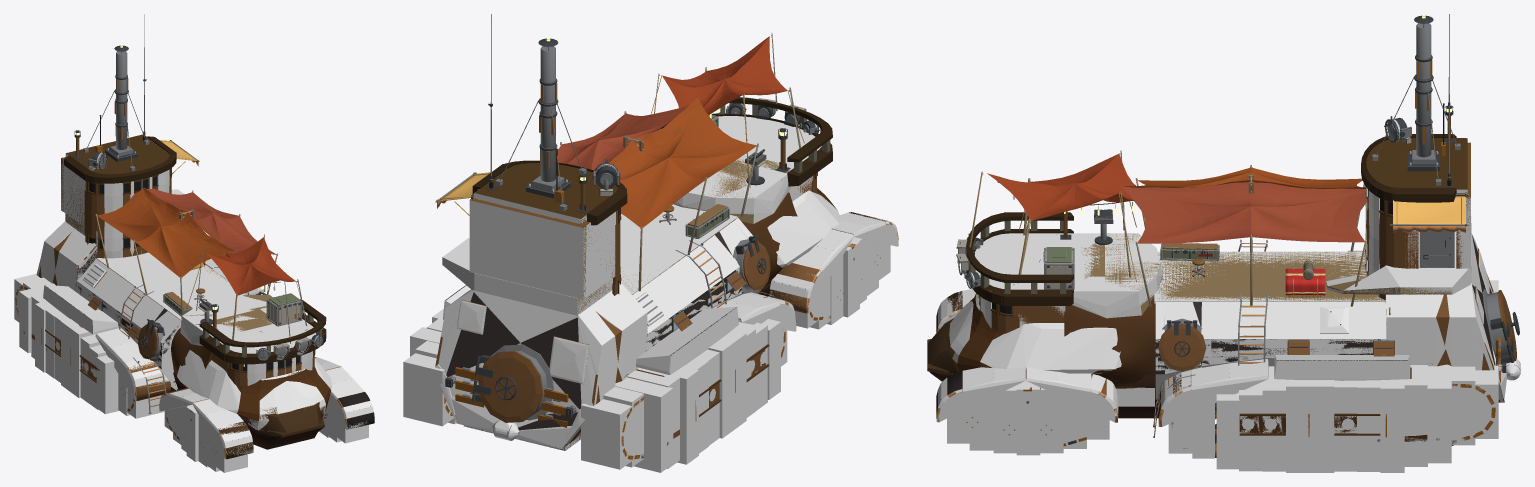
File: dune_barge_lookout.fbx
The picture shows the model from 3 angles, left to right: view 1: azimuth 30°, elevation 25°; view 2: azimuth 150°, elevation 25°; view 3: azimuth 270°, elevation 25°; orthographic projection. The views are drawn at different scales.
Parts seen in each view (by area): view 1: S16_Canopy.002, COL_DuneBarge_0027, S06_Canopy.002, S16_Canopy.001, COL_DuneBarge_0060, COL_DuneBarge_0146, Mesh_ExhaustStack_Flue.003, Cube.015, COL_DuneBarge_0145, Cube.028, COL_DuneBarge_0070, COL_DuneBarge_0111 (+47 smaller); view 2: S16_Canopy.002, COL_DuneBarge_0105, COL_DuneBarge_0027, S06_Canopy.002, Mesh_RearHull_Stern.002, Mesh_Hatch_Roof_Lid.002, Mesh_ExhaustStack_Flue.003, Cube.028, COL_DuneBarge_0145, COL_DuneBarge_0160, COL_DuneBarge_0060, S16_Canopy.001 (+53 smaller); view 3: S16_Canopy.001, Mesh_RearHull_Roof.003, COL_DuneBarge_0059, S06_Canopy.002, COL_DuneBarge_0130, neck.001, COL_DuneBarge_0027, Cube.028, COL_DuneBarge_0035, COL_DuneBarge_0129, Mesh_ExhaustStack_Flue.003, COL_DuneBarge_0058 (+64 smaller).
Part boxes in pixels (box(x1,y1,x2,y2)): S16_Canopy.002: box(97, 187, 234, 277); COL_DuneBarge_0027: box(97, 252, 246, 320); S06_Canopy.002: box(205, 237, 295, 295); S16_Canopy.001: box(146, 188, 276, 254); COL_DuneBarge_0060: box(177, 350, 240, 413); COL_DuneBarge_0146: box(95, 328, 168, 400); Mesh_ExhaustStack_Flue.003: box(83, 45, 149, 171); Cube.015: box(237, 367, 330, 429); COL_DuneBarge_0145: box(43, 285, 118, 334); Cube.028: box(66, 134, 169, 174); COL_DuneBarge_0070: box(257, 381, 325, 430); COL_DuneBarge_0111: box(192, 399, 253, 457); S16_Canopy.002: box(609, 97, 756, 227); COL_DuneBarge_0105: box(469, 200, 586, 299); COL_DuneBarge_0027: box(620, 204, 737, 294); S06_Canopy.002: box(662, 36, 787, 114); Mesh_RearHull_Stern.002: box(446, 292, 581, 430); Mesh_Hatch_Roof_Lid.002: box(472, 351, 543, 422); Mesh_ExhaustStack_Flue.003: box(495, 37, 586, 210); Cube.028: box(474, 161, 617, 223); COL_DuneBarge_0145: box(636, 307, 738, 374); COL_DuneBarge_0160: box(581, 399, 632, 469); COL_DuneBarge_0060: box(767, 190, 840, 267); S16_Canopy.001: box(557, 100, 703, 170); S16_Canopy.001: box(1121, 179, 1367, 243); Mesh_RearHull_Roof.003: box(1157, 251, 1384, 301); COL_DuneBarge_0059: box(980, 323, 1121, 373); S06_Canopy.002: box(987, 154, 1136, 220); COL_DuneBarge_0130: box(1159, 359, 1268, 426); neck.001: box(1064, 297, 1155, 388); COL_DuneBarge_0027: box(1154, 251, 1385, 303); Cube.028: box(1366, 138, 1467, 189); COL_DuneBarge_0035: box(1385, 294, 1445, 366); COL_DuneBarge_0129: box(1274, 355, 1410, 380); Mesh_ExhaustStack_Flue.003: box(1372, 15, 1460, 185); COL_DuneBarge_0058: box(974, 233, 1074, 291).
Size of the model in its own units: 953 by 1520 by 1949.
